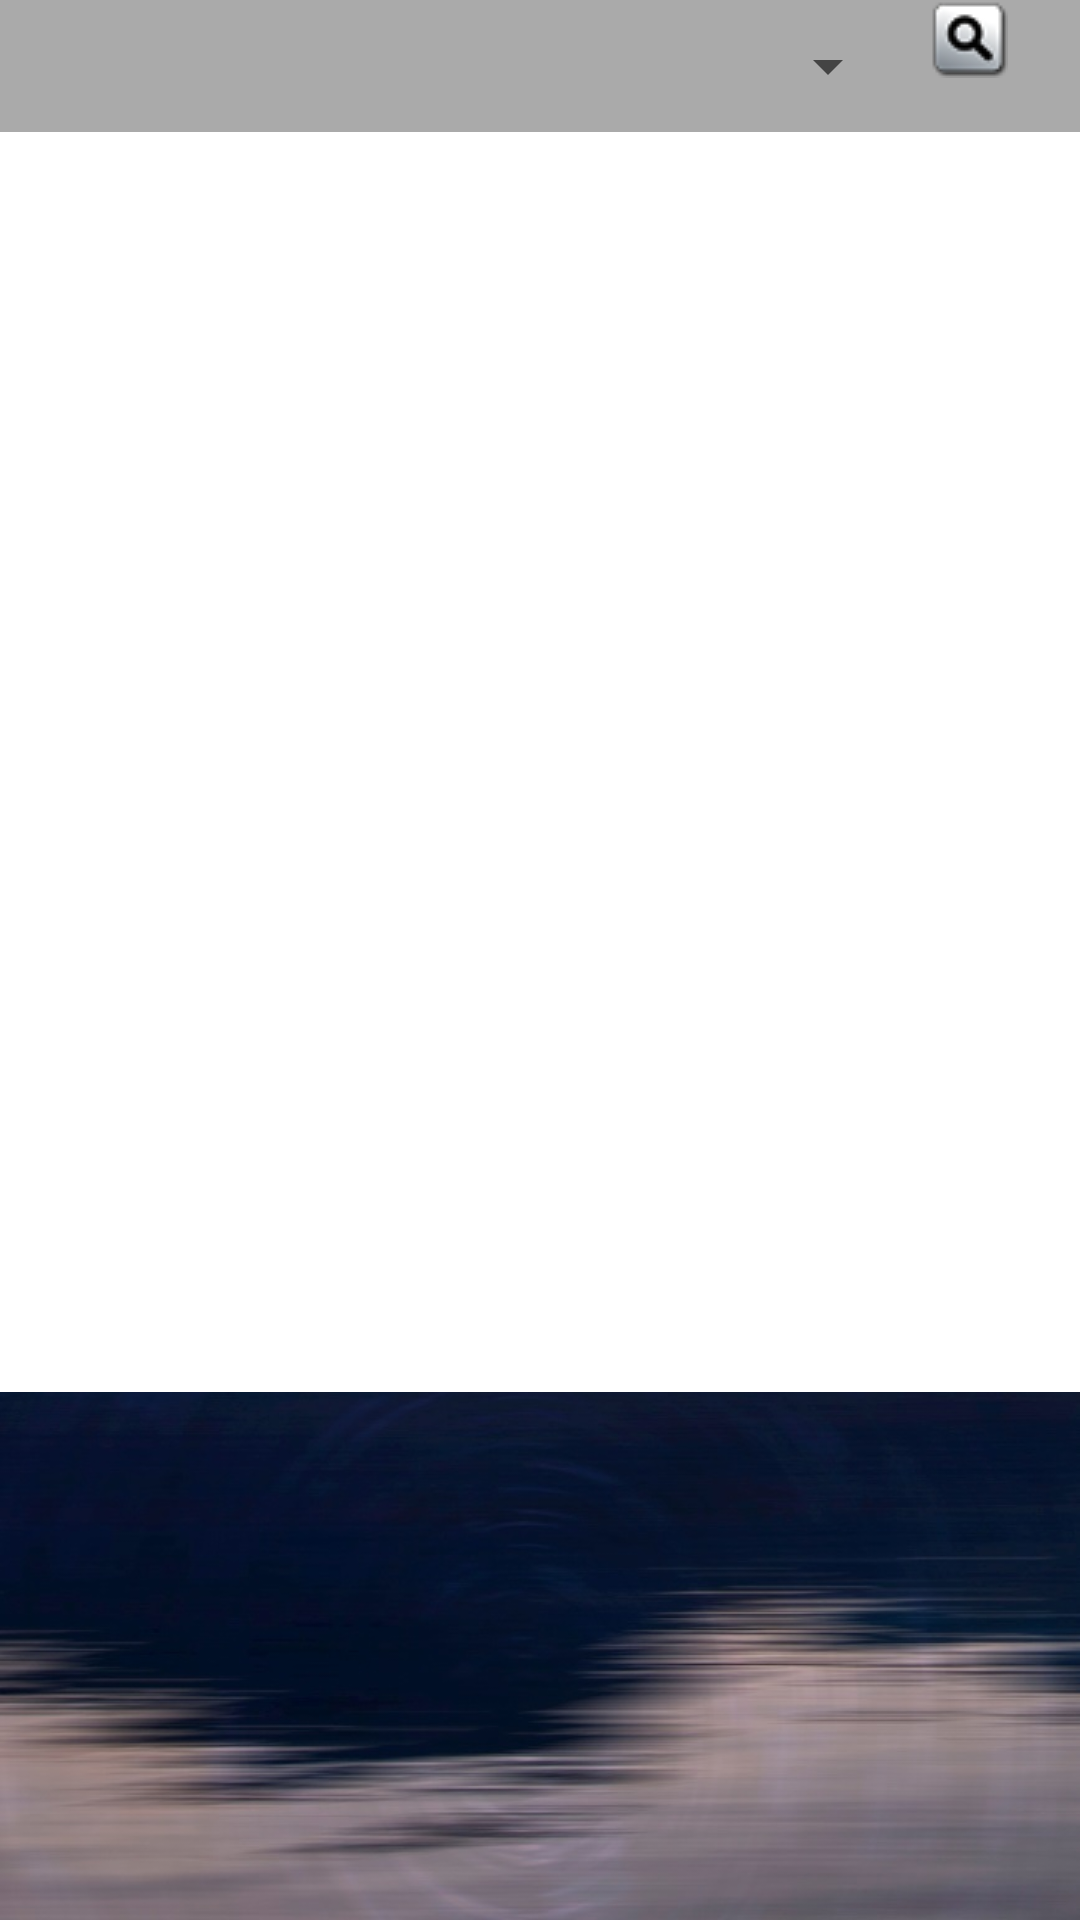

Named icons in this screenshot (1080px x 1920px) and their bounding boxes, detection(x1, y1, x2, y2):
search: detection(933, 3, 1006, 76)
